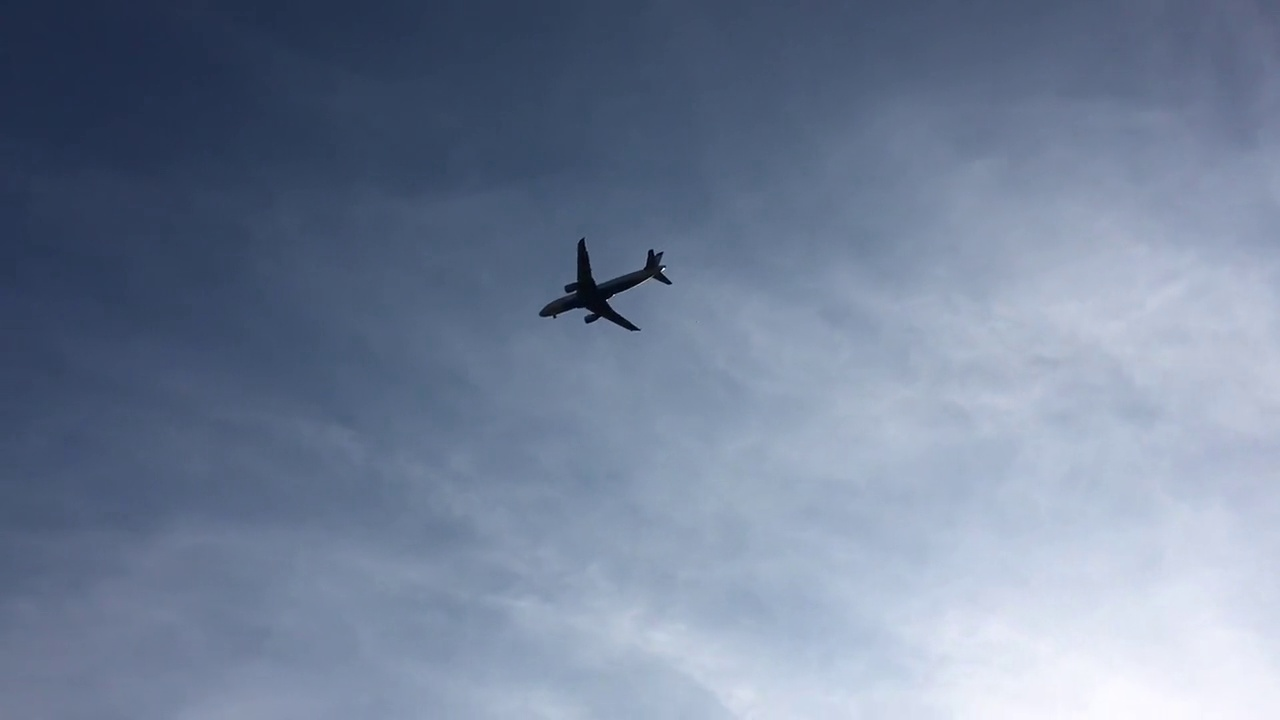plane: (538, 236, 674, 330)
